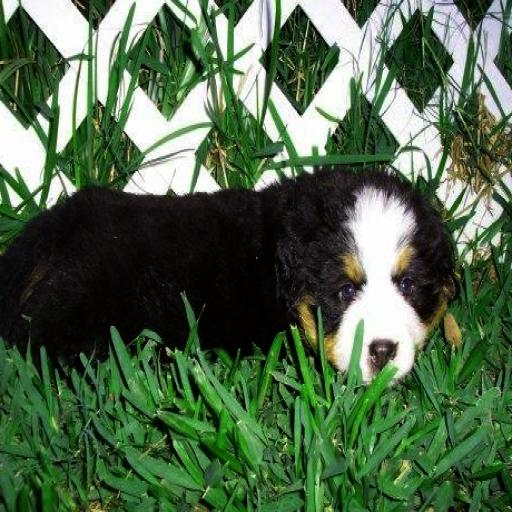dog_face: (289, 186, 452, 387)
